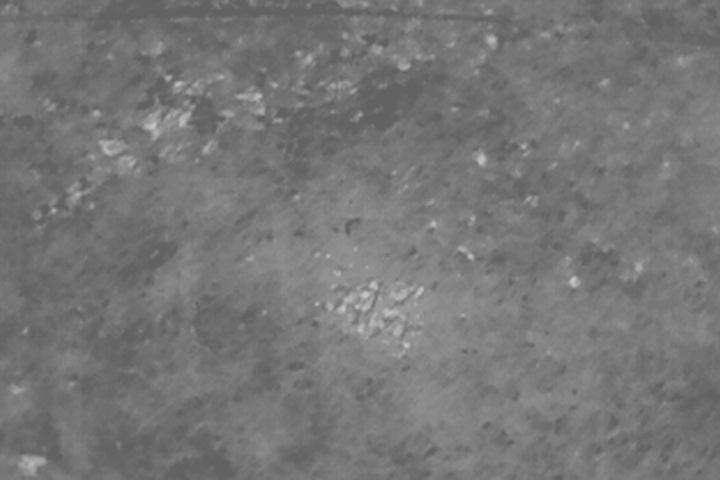landmine: (350, 286, 402, 337)
